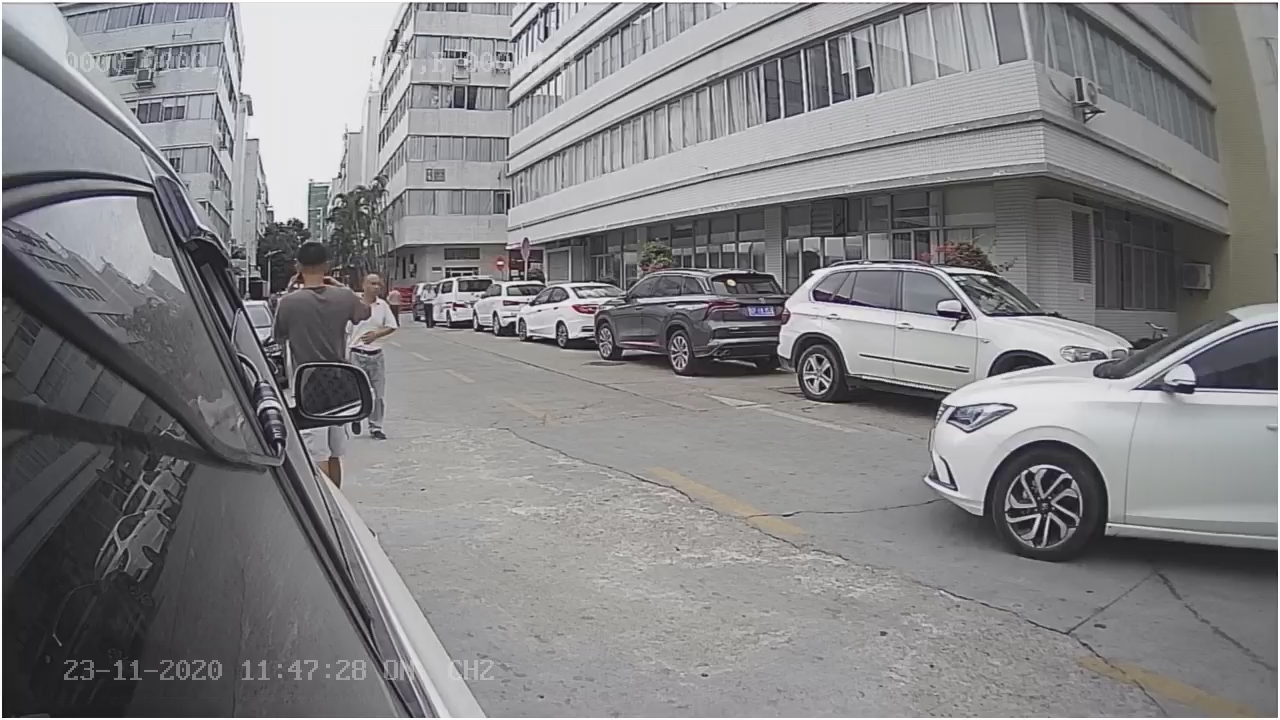person: (270, 226, 376, 354)
